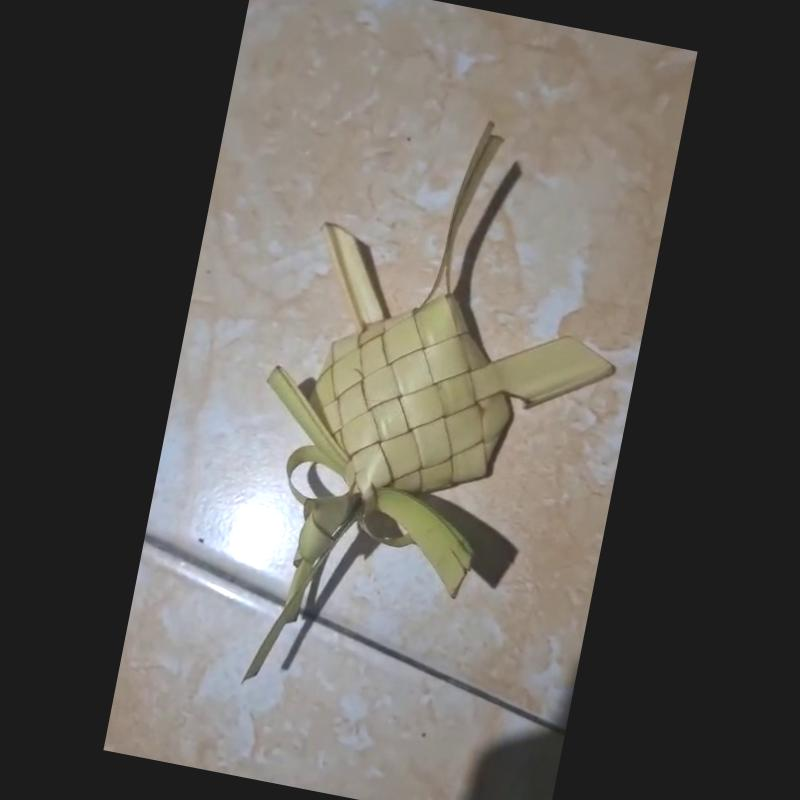Tipat Dampulan: (225, 117, 620, 686)
